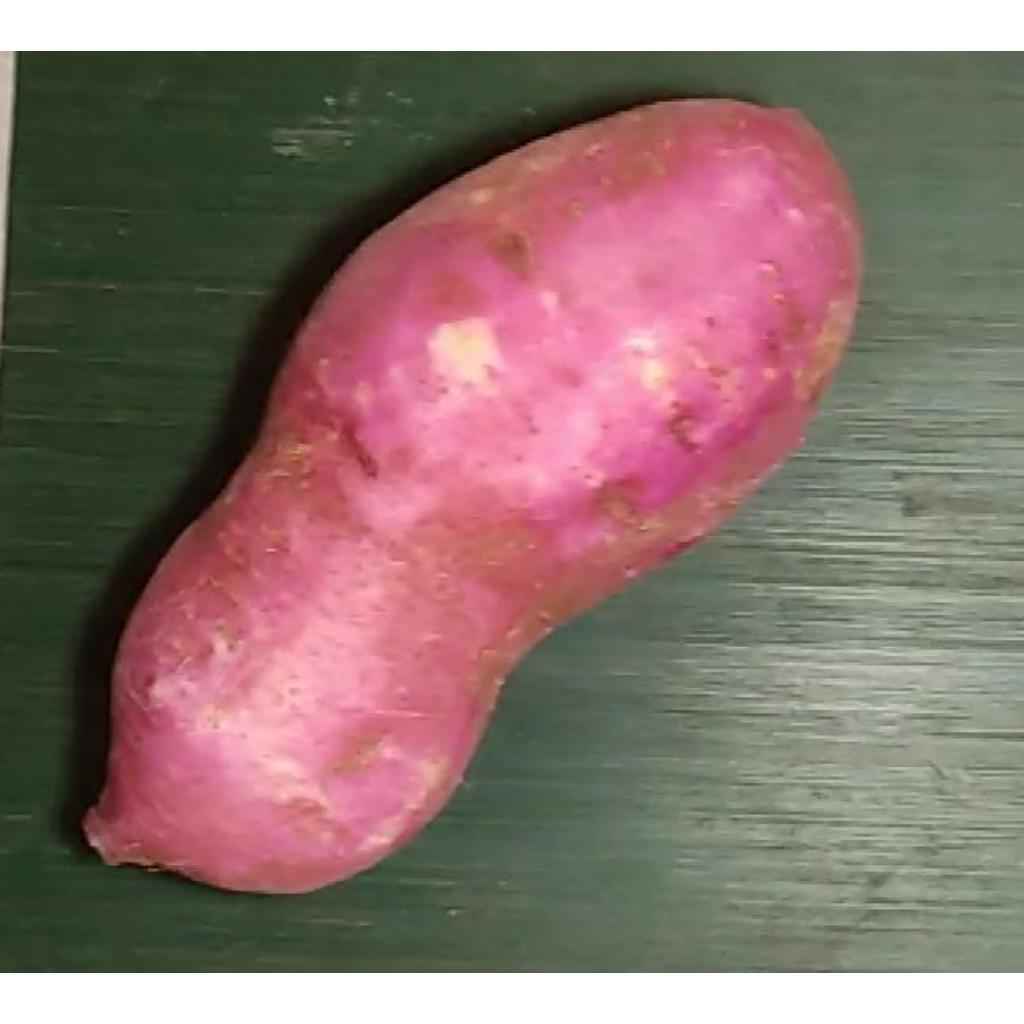Sweet Potato: (76, 97, 867, 899)
